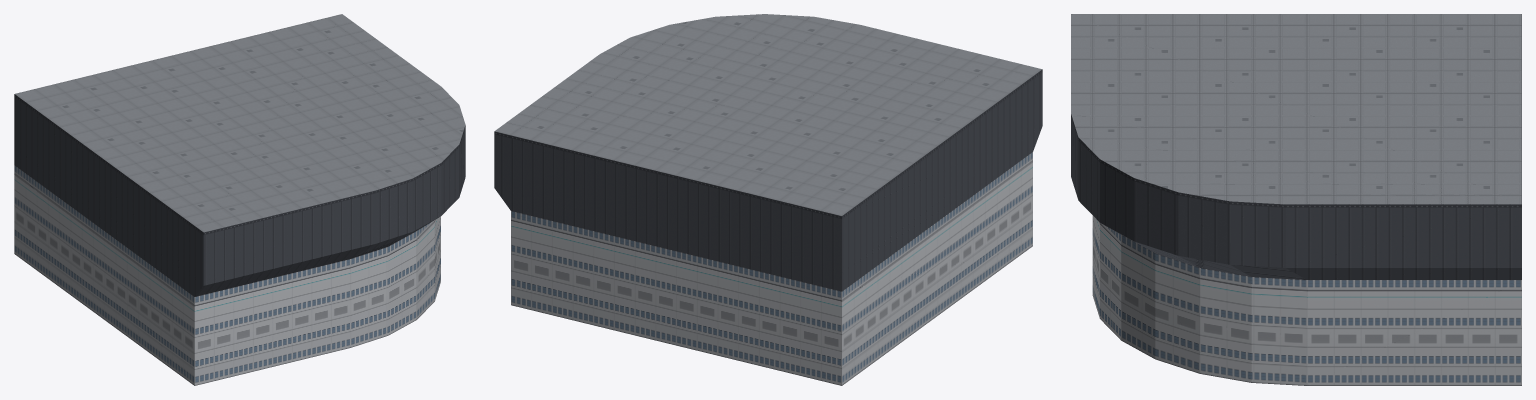
Rendered from BLD_POD_CapCornerRound.fbx.
3 renders of one model, left to right at view 1: azimuth 30°, elevation 25°; view 2: azimuth 150°, elevation 25°; view 3: azimuth 270°, elevation 25°, orthographic. The views are drawn at different scales.
Parts seen in each view (by area): view 1: BLD_POD_CapCornerRound; view 2: BLD_POD_CapCornerRound; view 3: BLD_POD_CapCornerRound.
Boxes of the visible parts, x1,y1,x2,y2 form: BLD_POD_CapCornerRound: (14, 14, 465, 385); BLD_POD_CapCornerRound: (494, 14, 1042, 385); BLD_POD_CapCornerRound: (1071, 14, 1521, 385).
Size of the model in its own units: 105 by 49 by 105.
